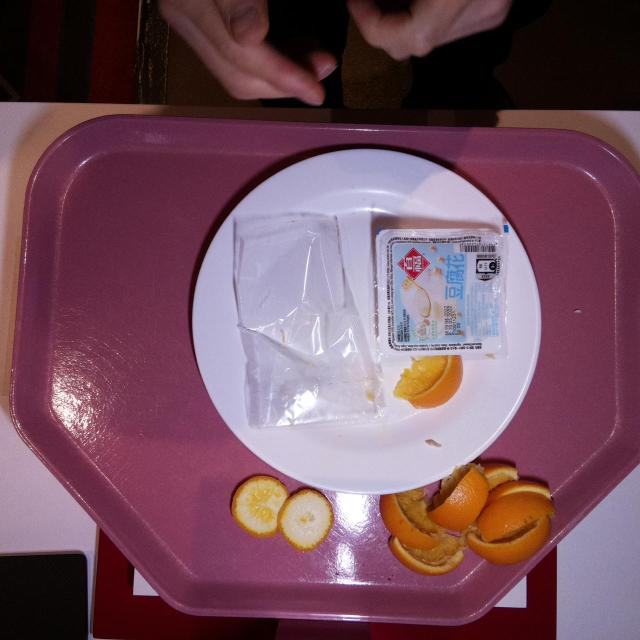Orange-peel: (467, 479, 555, 567), (382, 492, 464, 574), (392, 354, 466, 410), (230, 473, 289, 539), (278, 486, 336, 552), (429, 468, 487, 532)
